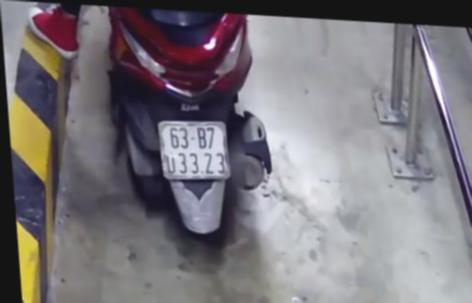License_Plate: (154, 116, 235, 185)
